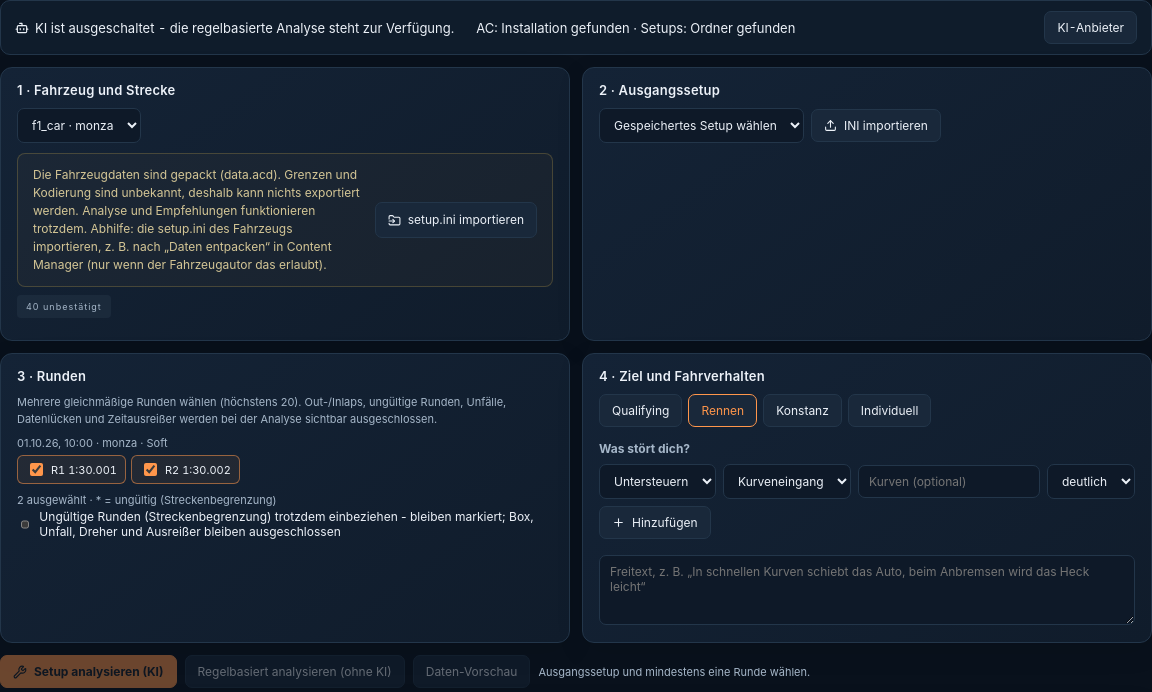
it: packed car: honest notice, AI disabled without provider, rule-based analysis shows labelled result
Expected: the text "Die Fahrzeugdaten sind gepackt" is shown, [33, 167, 360, 236]
Expected: the text "KI ist ausgeschaltet" is shown, [35, 20, 454, 36]
Select "generic / last.ini · 21.9.2026" in the dropdown named "Ausgangssetup" at (702, 126), box [599, 108, 804, 143]
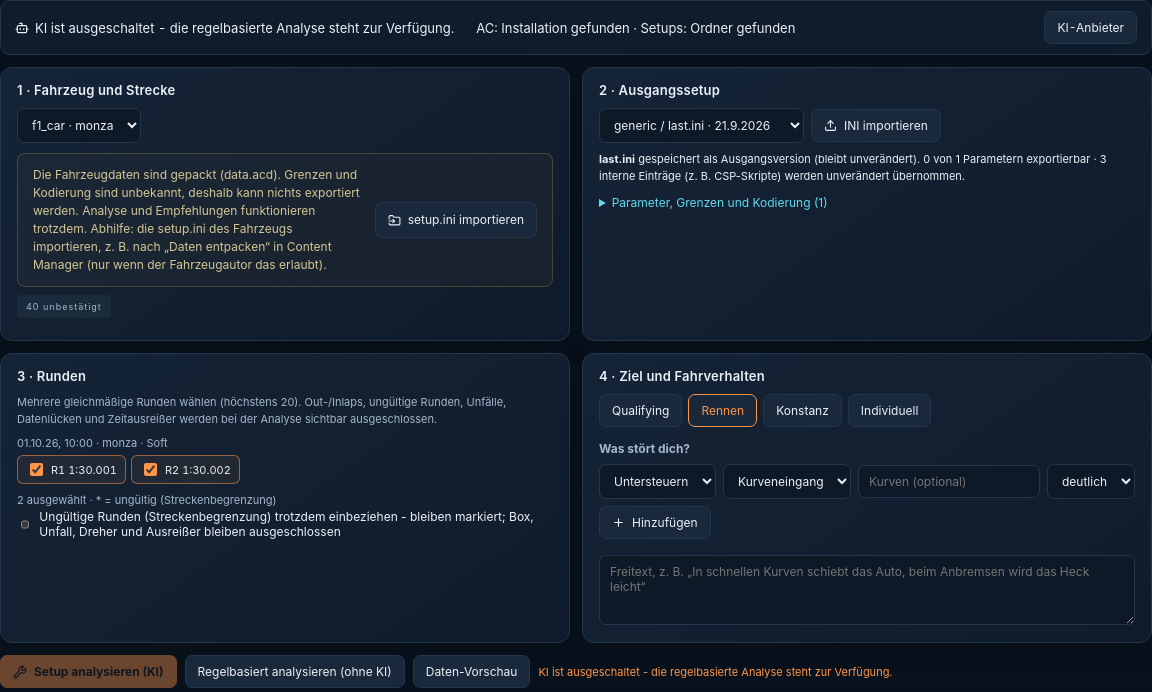
Expected: the element with test id "base-info" shows "0 von 1 Parametern exportierbar", [599, 151, 1135, 185]
Expected: the element with test id "base-info" shows "3 interne Einträge", [599, 152, 1106, 183]
Expected: the button with test id "analyze-rules" is enabled
Click the button with test id "analyze-rules".
click(295, 672)  # box [184, 655, 405, 688]
(page scrolled)
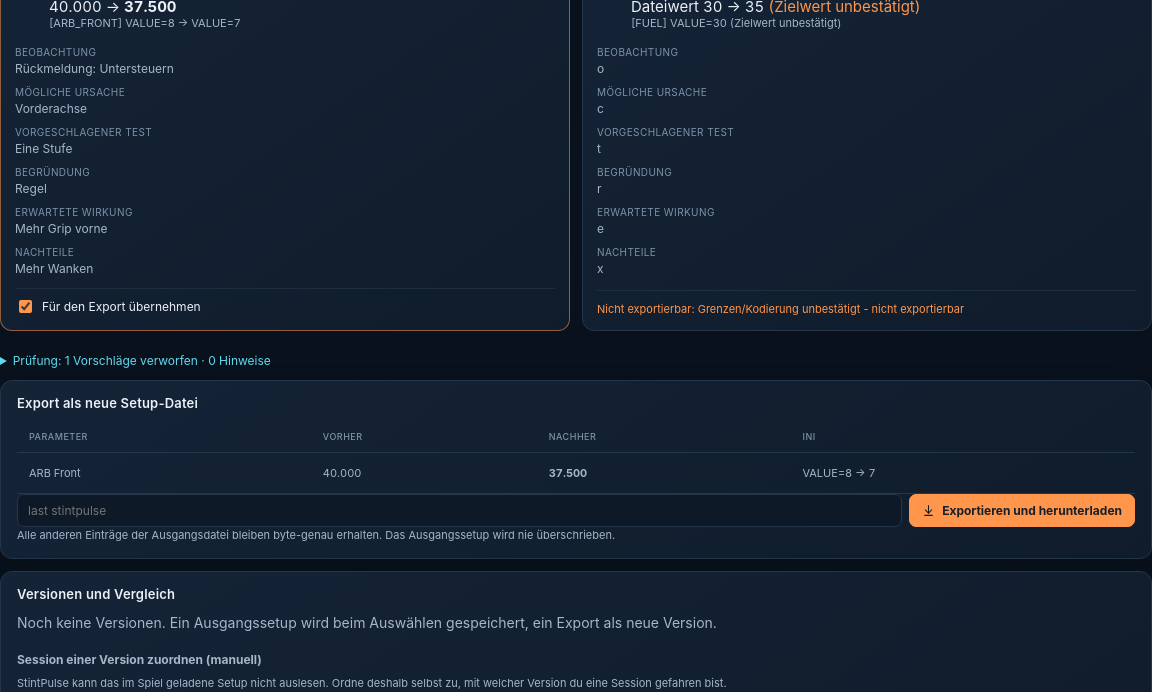
Expected: the checkbox is checked, [19, 300, 32, 313]
Expected: the text "Nicht exportierbar" is shown, [597, 302, 698, 316]
Expected: the table with test id "setup-before-after" shows "VALUE=8 → 7", [17, 421, 1135, 494]
